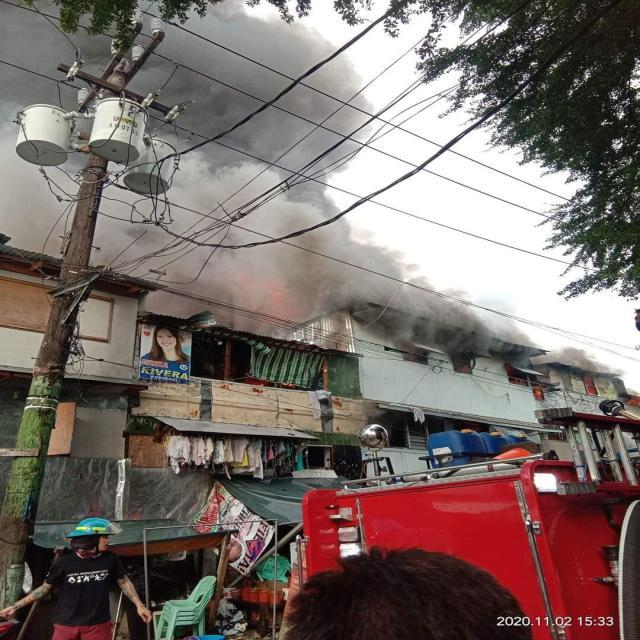Smoke: (0, 0, 405, 296)
